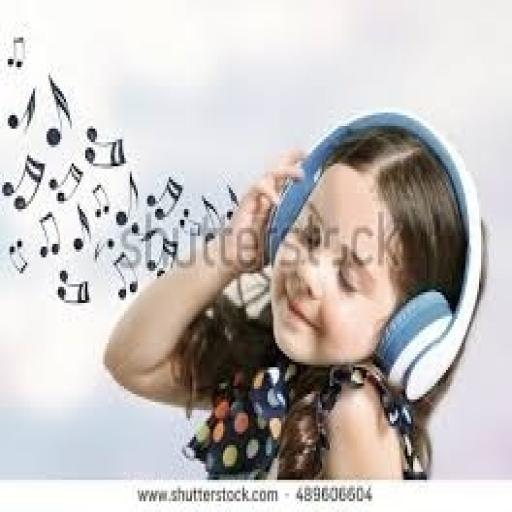listening_to_music: (101, 107, 485, 480), (260, 108, 485, 408)
